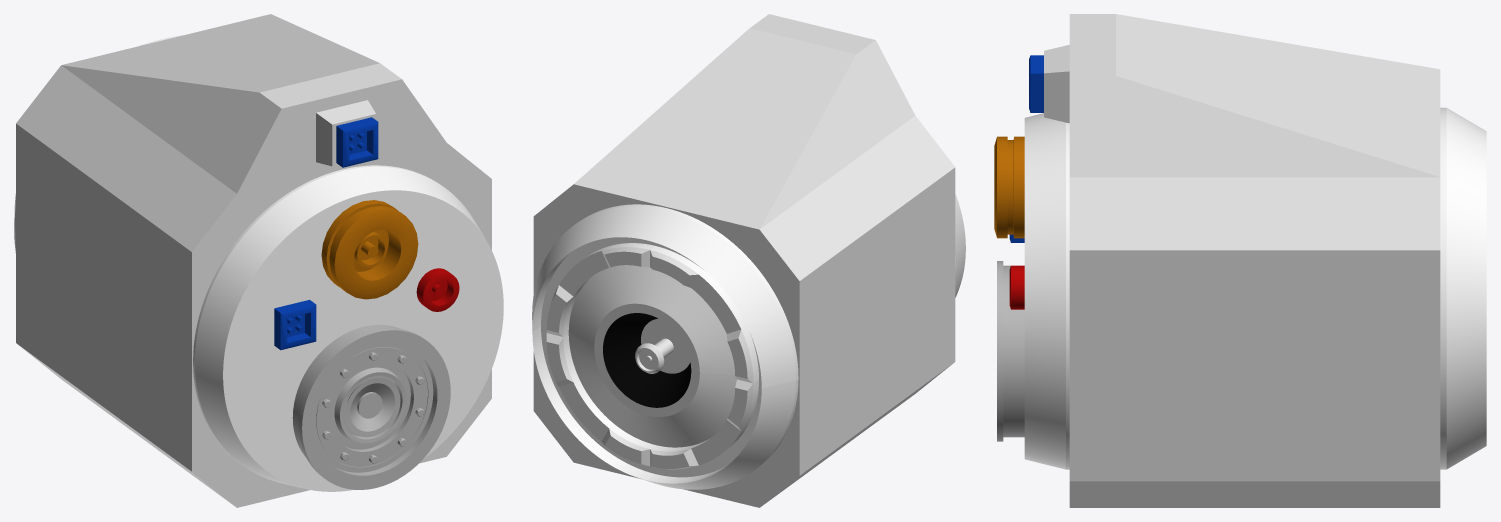
File: DockingPort.gltf
3 renders of one model, left to right at view 1: azimuth 30°, elevation 25°; view 2: azimuth 150°, elevation 25°; view 3: azimuth 270°, elevation 25°, orthographic. The views are drawn at different scales.
Parts seen in each view (by area): view 1: base; view 2: base; view 3: base.
Boxes of the visible parts, <box> form: base: <box>14,14,503,507</box>; base: <box>532,14,965,507</box>; base: <box>994,14,1486,507</box>.
Bounding box in the file's own units: 0.504 × 0.6233 × 0.68.
